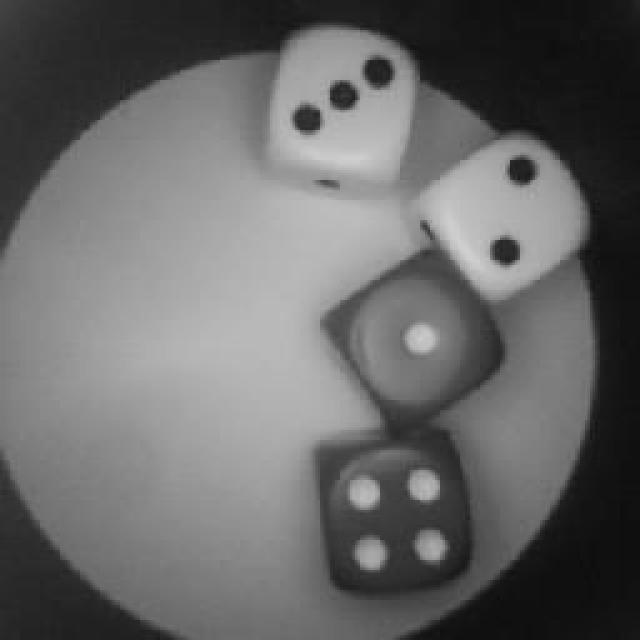dice_1: (338, 247, 510, 425)
dice_2: (425, 130, 593, 300)
dice_3: (260, 18, 422, 192)
dice_4: (310, 415, 475, 595)
